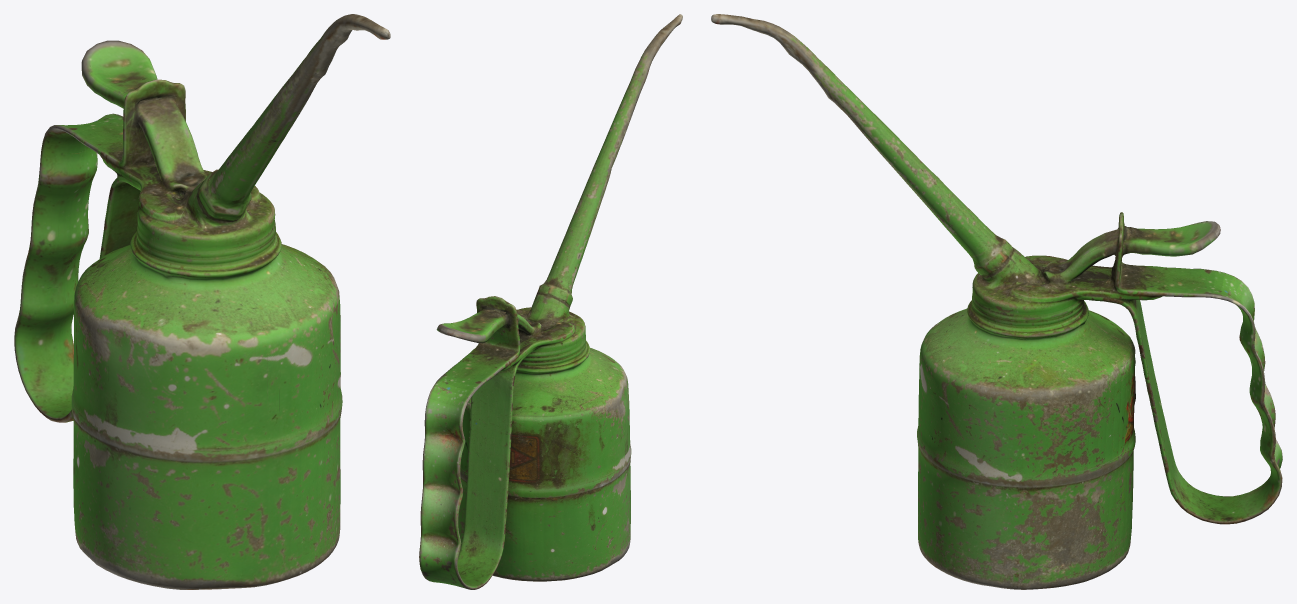
Rendered from oil_can.glb.
3 renders of one model, left to right at view 1: azimuth 30°, elevation 25°; view 2: azimuth 150°, elevation 25°; view 3: azimuth 270°, elevation 25°, orthographic. The views are drawn at different scales.
Visible parts, largest first — view 1: Object_2; view 2: Object_2; view 3: Object_2.
Boxes of the visible parts, <box> form: Object_2: <box>14,14,390,589</box>; Object_2: <box>419,14,682,589</box>; Object_2: <box>711,14,1282,589</box>.
Bounding box in the file's own units: 0.9214 × 2.47 × 2.42.
1 material, 1 textured.
